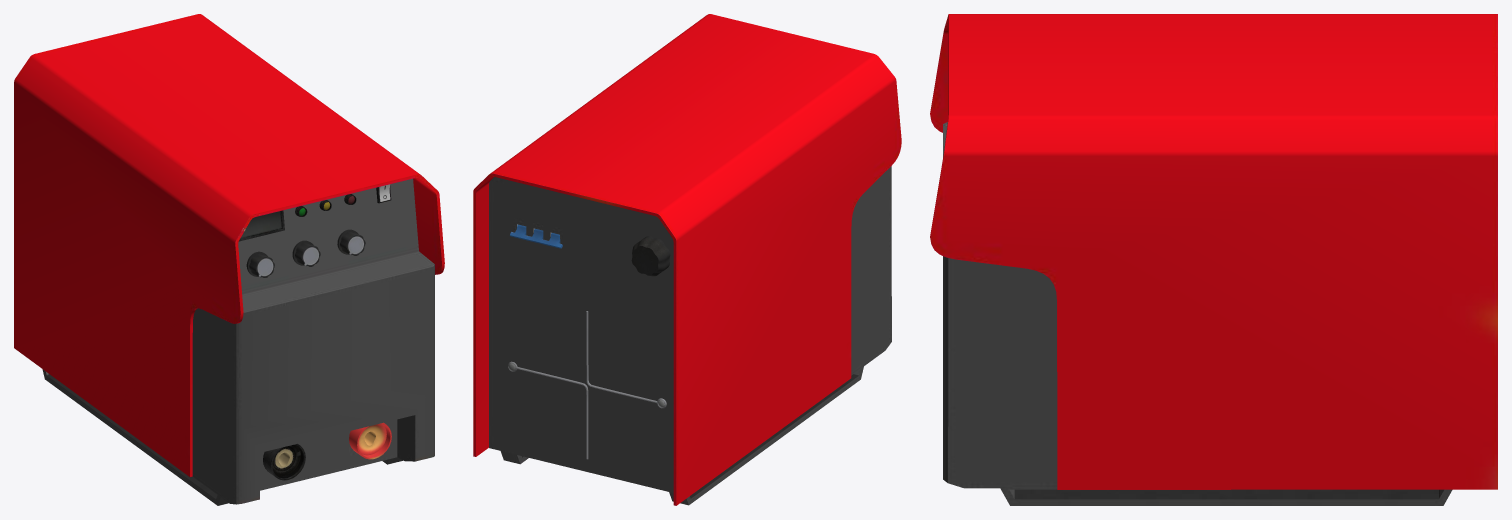
The model's file is welding_machine_red.glb.
The picture shows the model from 3 angles, left to right: view 1: azimuth 30°, elevation 25°; view 2: azimuth 150°, elevation 25°; view 3: azimuth 270°, elevation 25°; orthographic projection. The views are drawn at different scales.
Parts seen in each view (by area): view 1: case_low, body_low, connectors_low, rack_low, tumblersfronf_low, caseonoff_low; view 2: case_low, body_low, rack_low, socket_low, fastening_low; view 3: case_low, body_low, rack_low.
Boxes of the visible parts, <box> form: case_low: <box>14,14,444,476</box>; body_low: <box>192,178,434,504</box>; connectors_low: <box>263,422,391,480</box>; rack_low: <box>42,369,402,505</box>; tumblersfronf_low: <box>246,229,365,277</box>; caseonoff_low: <box>239,186,391,241</box>; case_low: <box>473,14,901,505</box>; body_low: <box>489,166,891,492</box>; rack_low: <box>500,366,863,505</box>; socket_low: <box>631,236,670,276</box>; fastening_low: <box>508,311,666,459</box>; case_low: <box>930,14,1497,489</box>; body_low: <box>943,122,1057,488</box>; rack_low: <box>1000,488,1452,505</box>.
Size of the model in its own units: 0.269 by 0.386 by 0.5169.
2 materials, 2 textured.
